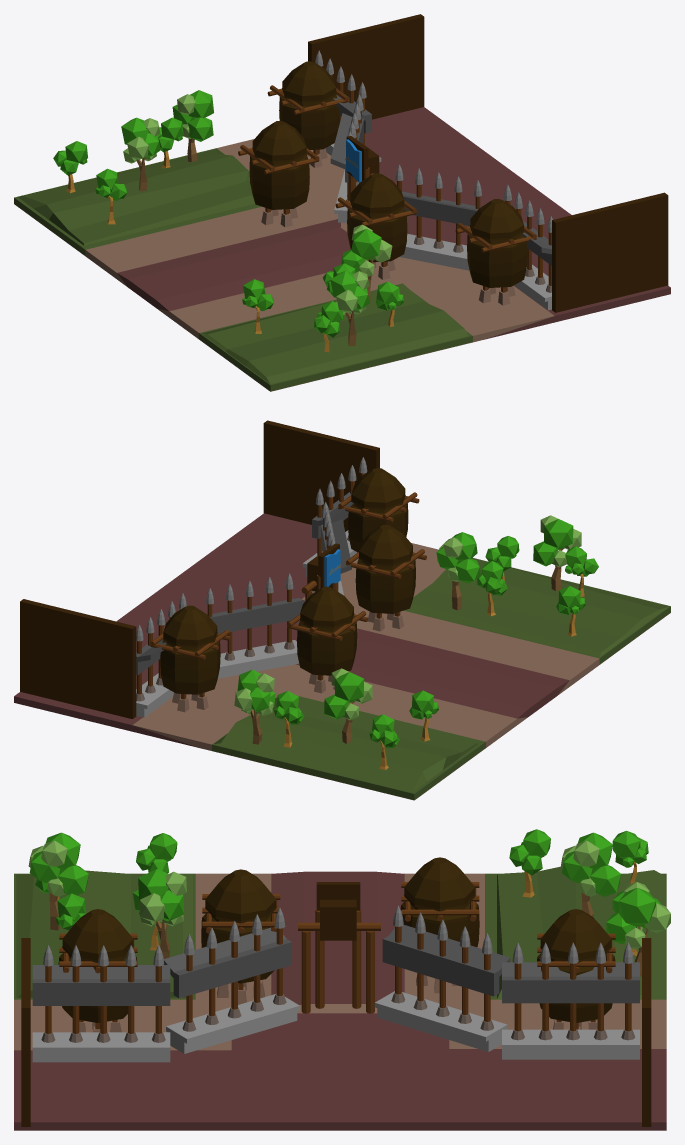
File: uSharka Entrance (Rework).fbx
3 views of the same model, one above another, from view 1: azimuth 30°, elevation 25°; view 2: azimuth 150°, elevation 25°; view 3: azimuth 270°, elevation 25° (orthographic). The views are drawn at different scales.
Visible parts, largest first — view 1: Cube.007; view 2: Cube.007; view 3: Cube.007.
Boxes of the visible parts, x1=… form: Cube.007: x1=14, y1=14, x2=670, y2=391; Cube.007: x1=14, y1=420, x2=670, y2=800; Cube.007: x1=14, y1=829, x2=670, y2=1130.
Size of the model in its own units: 12806 by 3166 by 14291.
